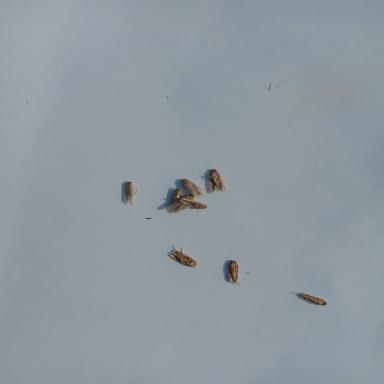pbw: (165, 192, 197, 214), (288, 289, 329, 306), (168, 246, 198, 268), (207, 168, 226, 194), (181, 178, 204, 198), (178, 196, 208, 210), (227, 259, 241, 287), (125, 180, 138, 206), (169, 187, 183, 204)
